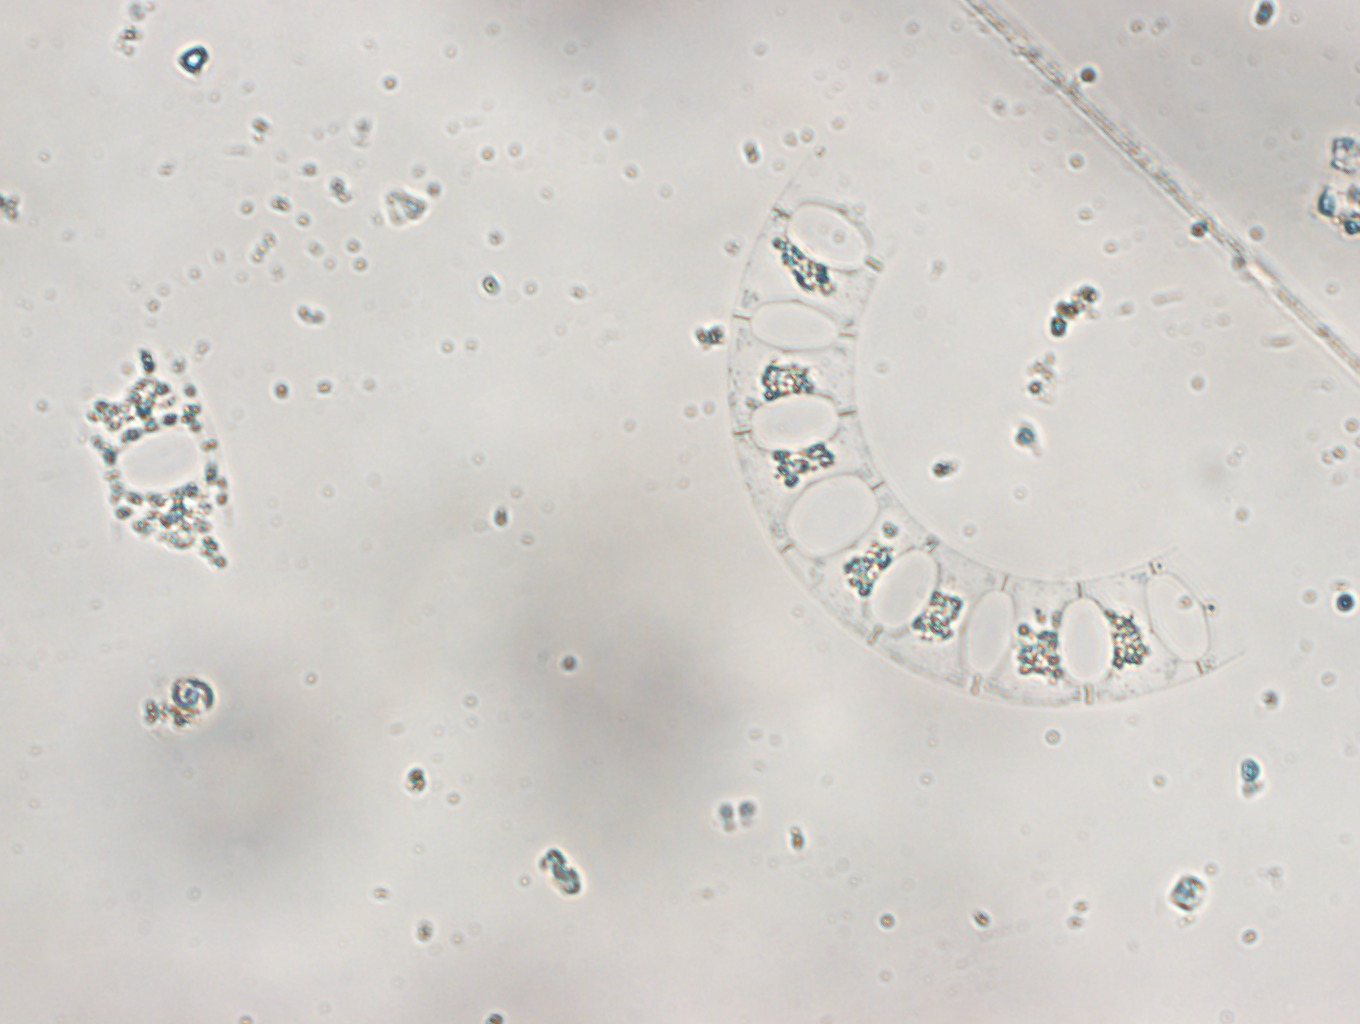eucampia: (725, 145, 1232, 701), (74, 333, 234, 565)
